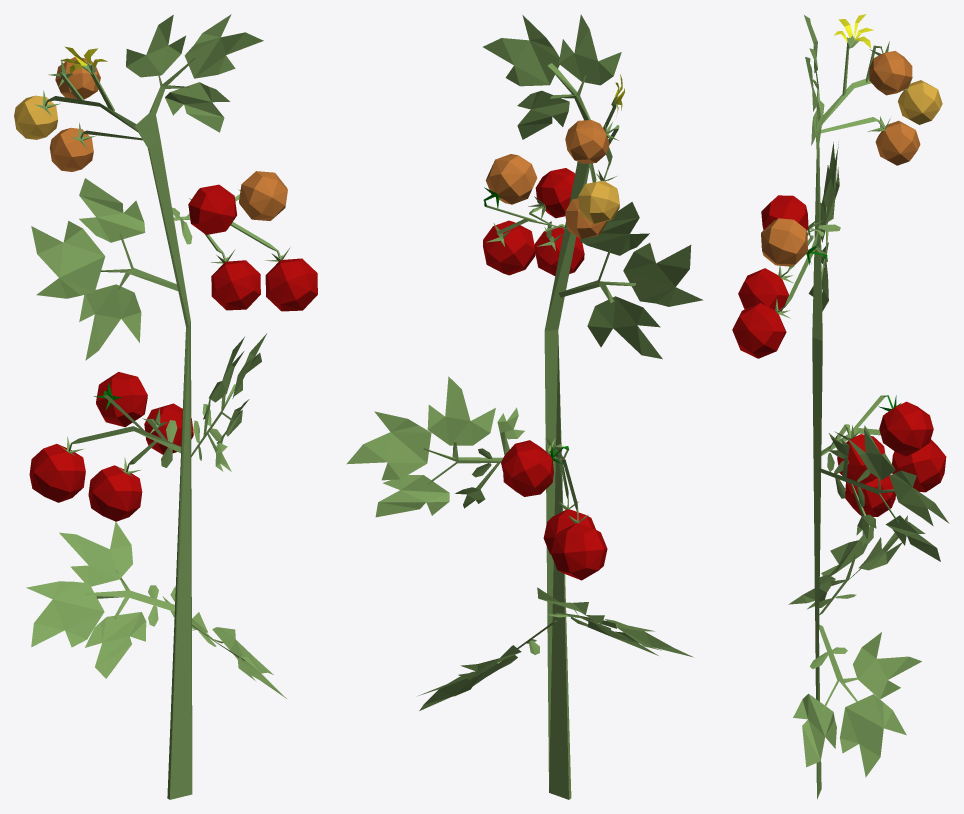
The model's file is Tomato_6.fbx.
3 renders of one model, left to right at view 1: azimuth 30°, elevation 25°; view 2: azimuth 150°, elevation 25°; view 3: azimuth 270°, elevation 25°, orthographic. The views are drawn at different scales.
Parts seen in each view (by area): view 1: Tomato_6; view 2: Tomato_6; view 3: Tomato_6.
Boxes of the visible parts, x1=… form: Tomato_6: x1=14, y1=14, x2=317, y2=799; Tomato_6: x1=346, y1=14, x2=703, y2=799; Tomato_6: x1=732, y1=14, x2=949, y2=799.
Bounding box in the file's own units: 124 × 318 × 81.07.
